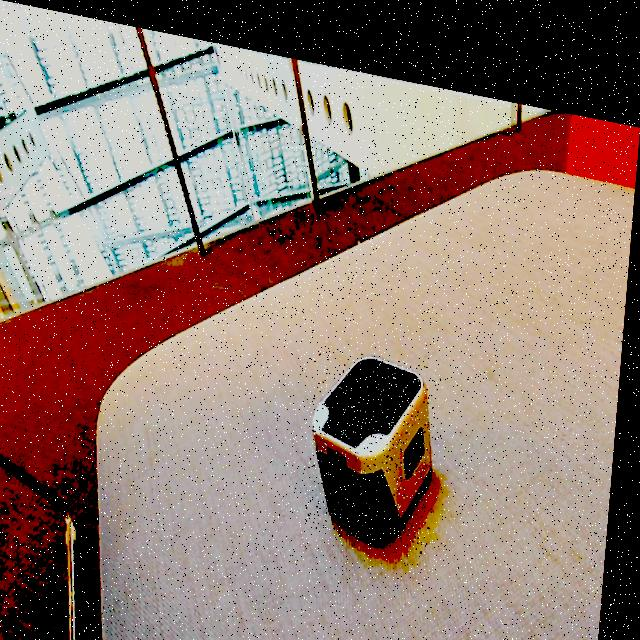adapter: (312, 330, 448, 536)
